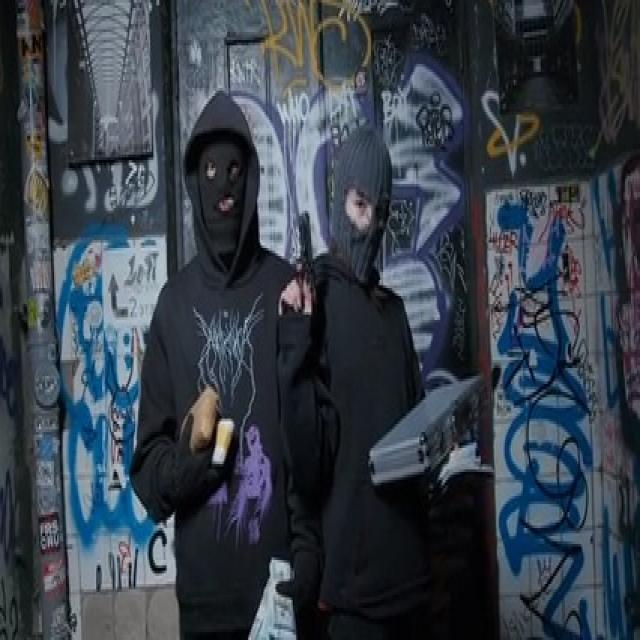Gun_Holder: (275, 208, 331, 340)
Person: (135, 84, 311, 640), (312, 125, 453, 640)
